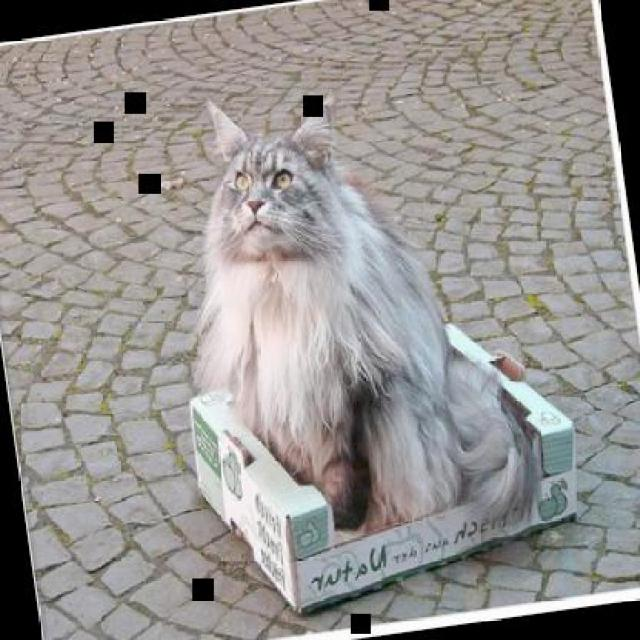cat: (172, 63, 536, 559)
